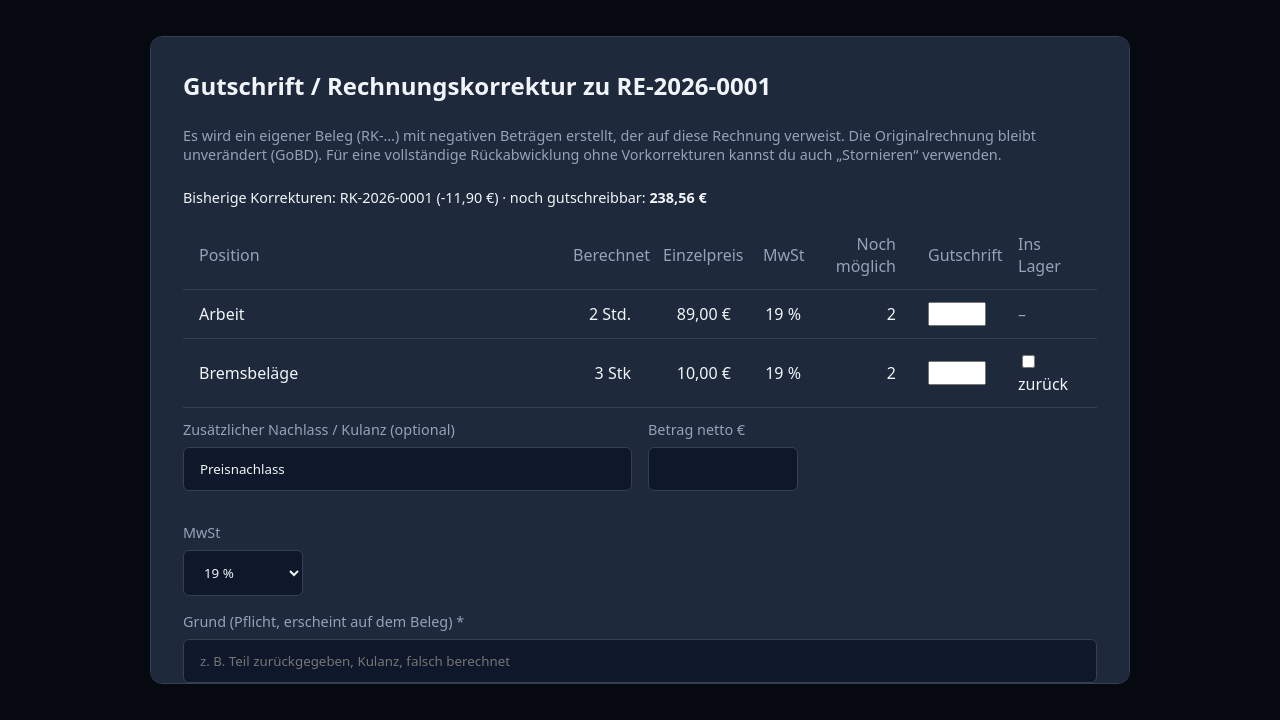
Rechnungskorrektur-Dialog › lehnt mehr als die Restmenge ab
expect the text "Bremsbeläge" is shown: met, box [183,339,557,408]
In the field named "Gutschrift Menge Position 2": (957, 373) [928,361,986,385], type "3"
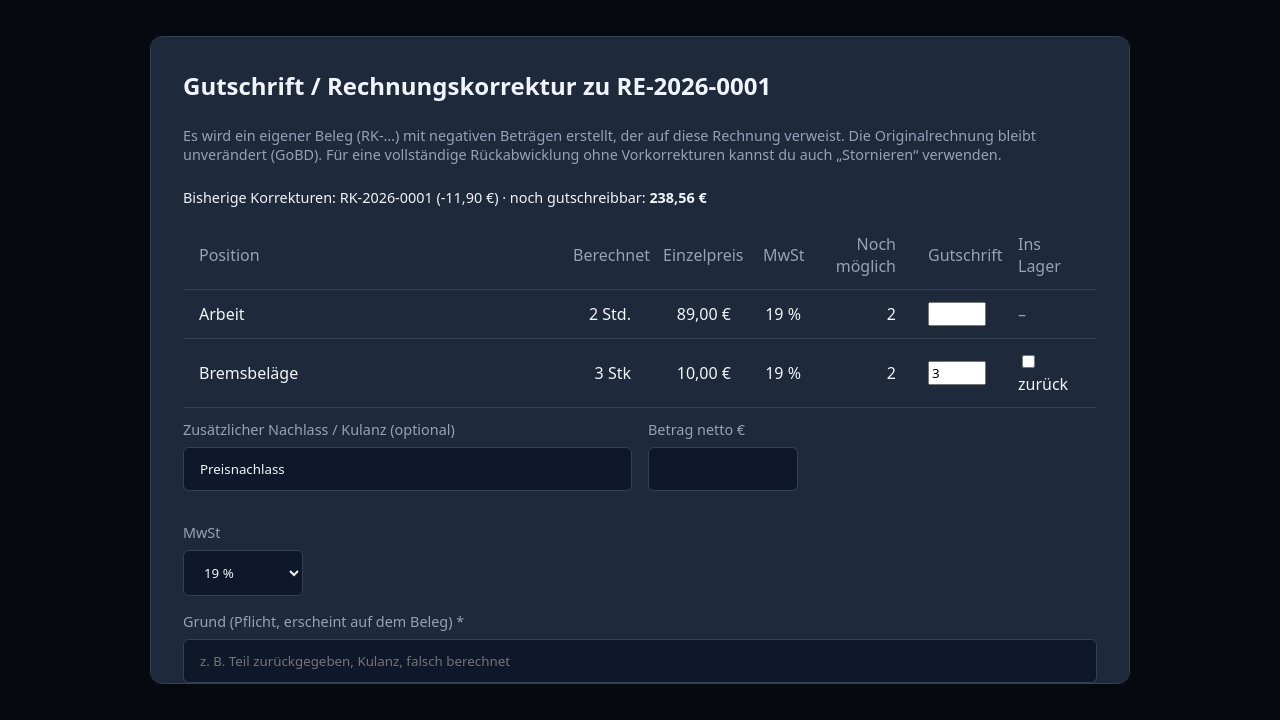
In the field labelled "Grund (Pflicht, erscheint auf dem Beleg) *": (640, 661) [183,639,1097,683], type "Rückgabe"
(page scrolled)
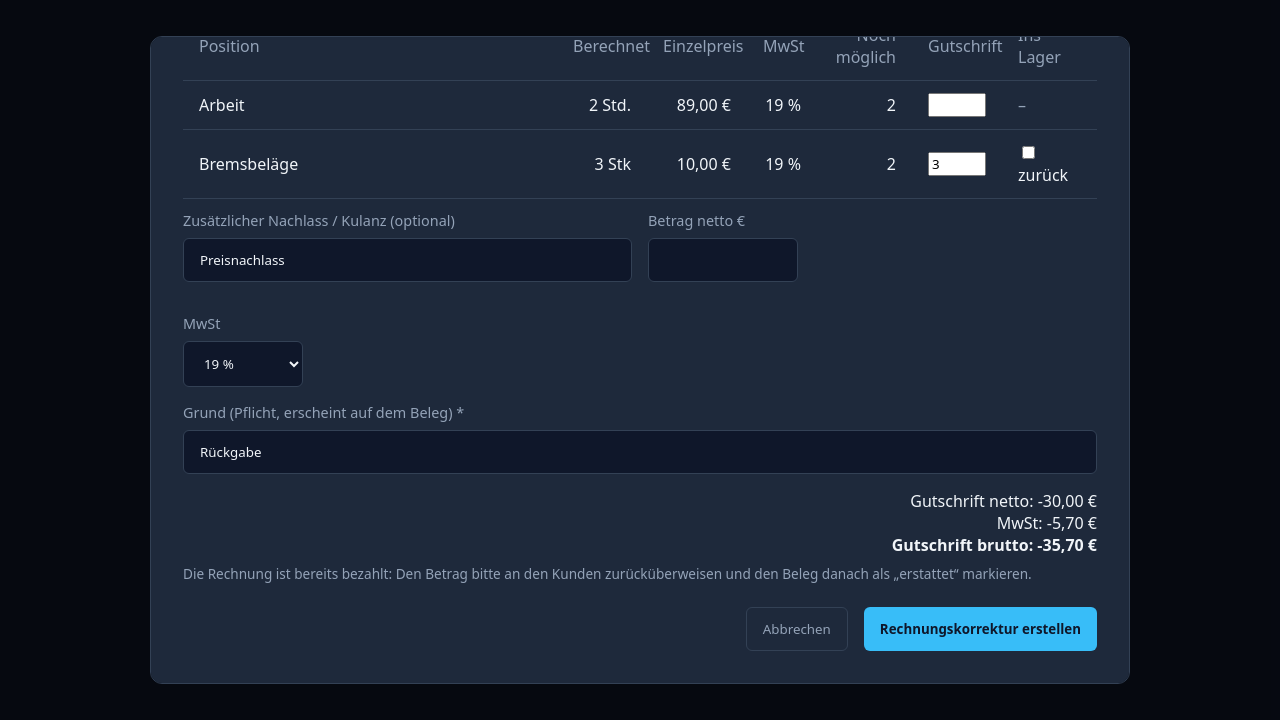
Click the button "Rechnungskorrektur erstellen": (980, 629) [864,607,1097,651]
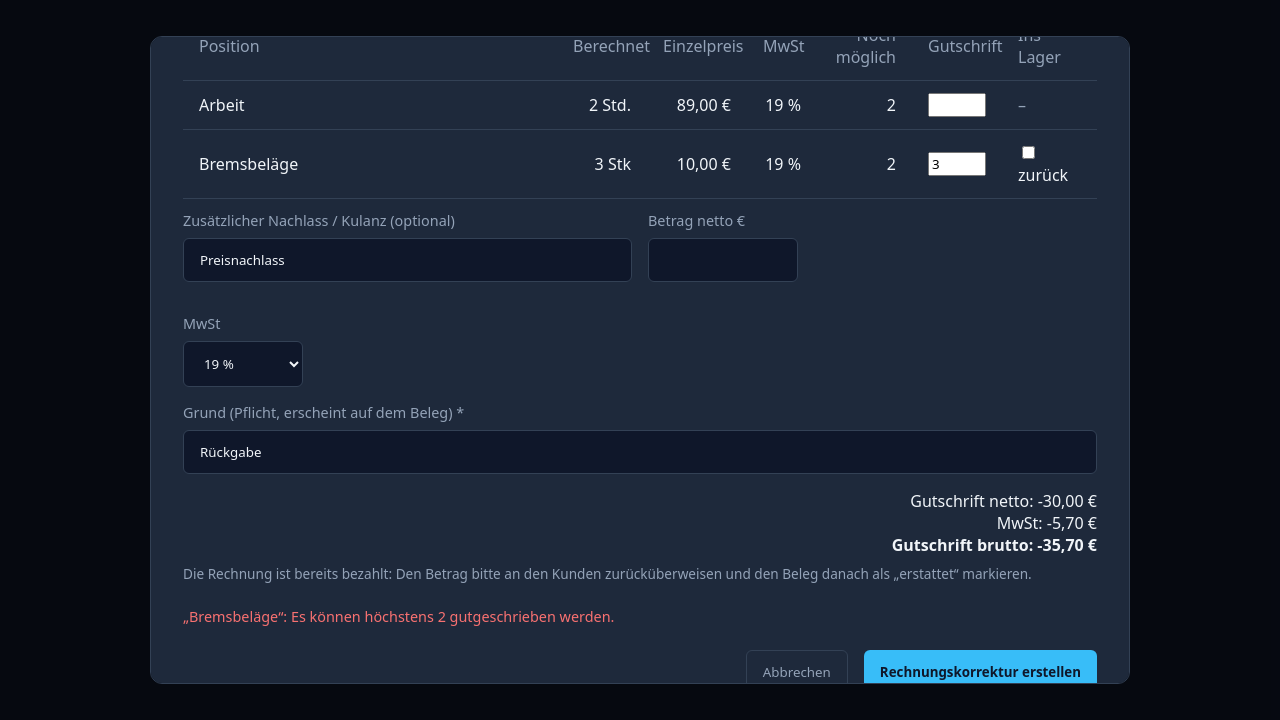
expect the text "„Bremsbeläge“: Es können höchstens 2 gutgeschrieben werden." is shown: met, box [183,607,614,626]
